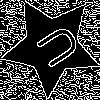U: (26, 21, 83, 76)
